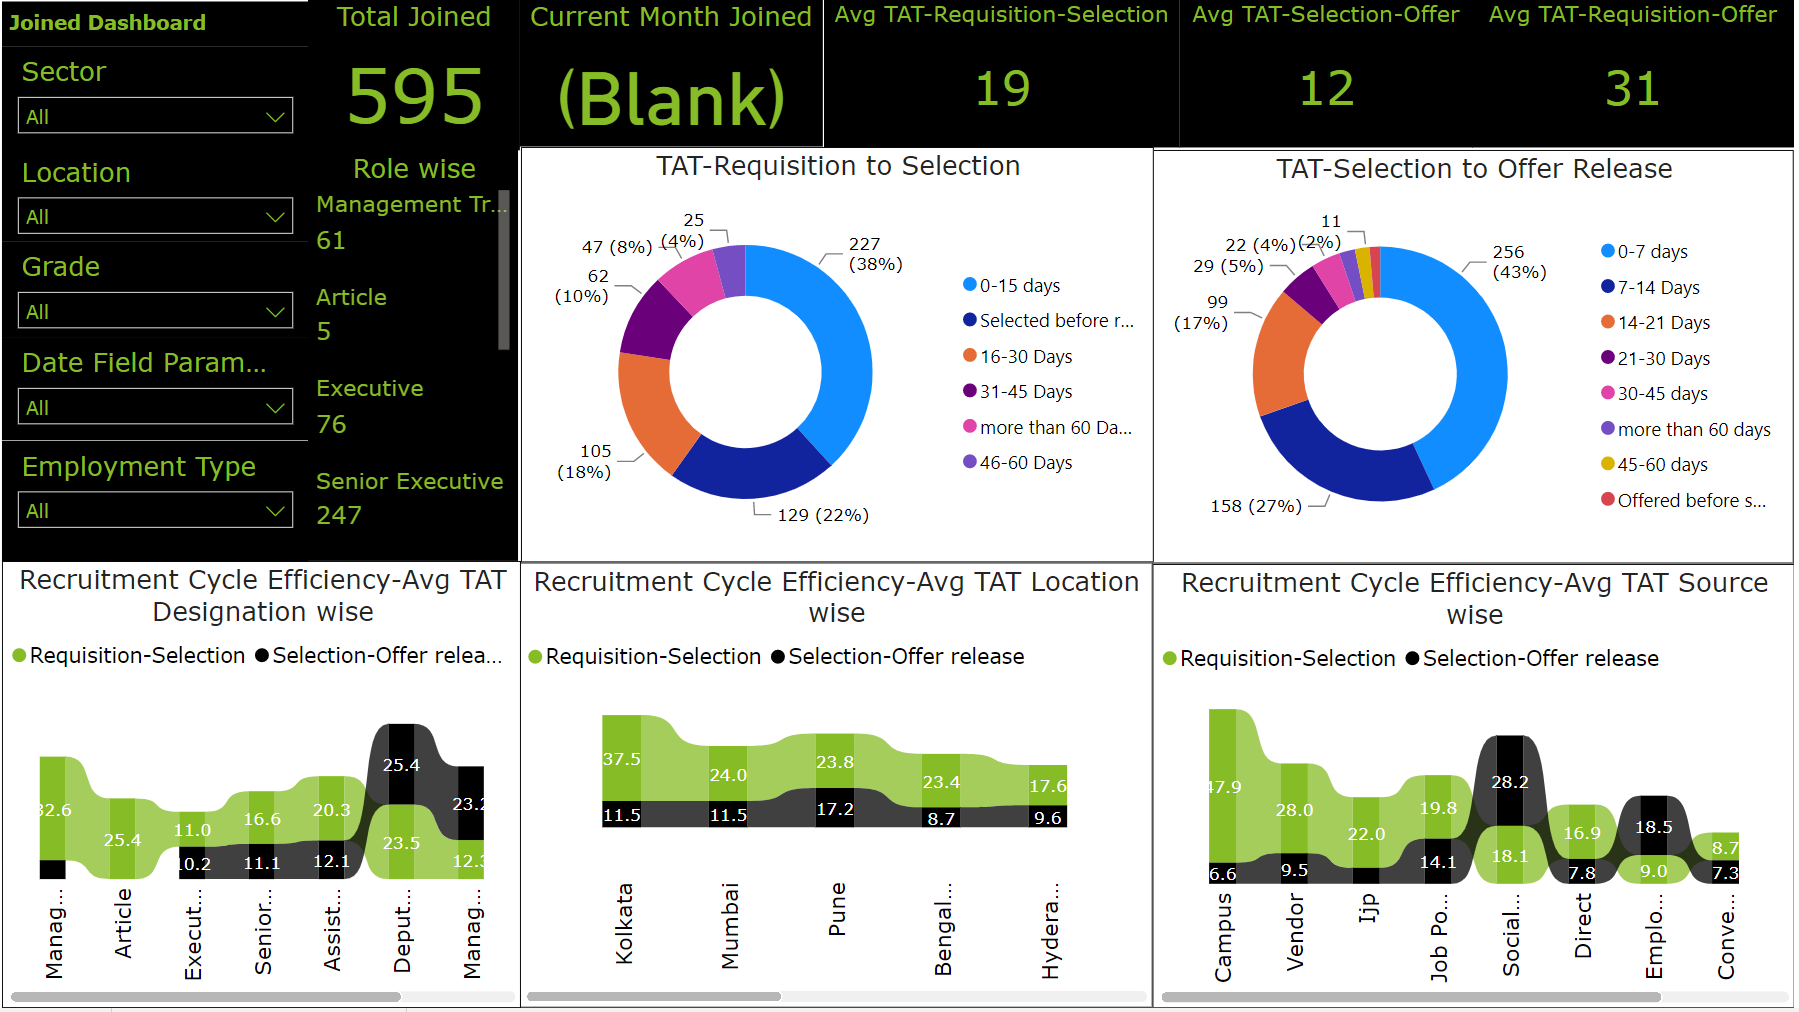

This screenshot's page, from the dashboard's own definition file:
{"tool":"powerbi","page":{"name":"Joined Board Ageing","canvas":[1280,720],"ordinal":3},"visuals":[{"type":"slicer","fields":{"Values":["Recruitment Data.Grade"]},"box":[0,245,219,69.8],"z":0},{"type":"donutChart","title":"TAT-Selection to Offer Release","fields":{"Y":["CountNonNull(Recruitment Data.Offered Candidate name)"],"Category":["Perm, FTC, Intern & Article.Ageing_Offer_Selc"]},"box":[822.2,107,458.2,295.3],"z":1000},{"type":"ribbonChart","title":"Recruitment Cycle Efficiency-Avg TAT Location wise","fields":{"Category":["Recruitment Data.Location"],"Y":["Avg(Perm, FTC, Intern & Article.Age_Reqs_Selc)","Avg(Perm, FTC, Intern & Article.Age_offer_Selc)"]},"box":[368.8,402.3,453.4,317.7],"z":2000},{"type":"donutChart","title":"TAT-Requisition to Selection","fields":{"Y":["CountNonNull(Recruitment Data.Offered Candidate name)"],"Category":["Perm, FTC, Intern & Article.Ageing_Req_Selc"]},"box":[370.4,105.4,451.8,296.9],"z":3000},{"type":"card","title":"Total Joined","fields":{"Values":["Perm, FTC, Intern & Article.Candidate Count"]},"box":[219.1,0,151.6,107.1],"z":4000},{"type":"slicer","fields":{"Values":["Recruitment Data.Location"]},"box":[0,178.5,219,66.5],"z":5000},{"type":"ribbonChart","title":"Recruitment Cycle Efficiency-Avg TAT Source wise","fields":{"Category":["Recruitment Data.Recruitment Source"],"Y":["Avg(Perm, FTC, Intern & Article.Age_Reqs_Selc)","Avg(Perm, FTC, Intern & Article.Age_offer_Selc)"]},"box":[822,402.4,458.4,317.6],"z":6000},{"type":"multiRowCard","title":"Role wise","fields":{"Values":["Recruitment Data.Grade","Recruitment Data.Offered Candidate name"]},"box":[219.1,107.1,149.9,293.2],"z":7000},{"type":"ribbonChart","title":"Recruitment Cycle Efficiency-Avg TAT Designation wise","fields":{"Y":["Avg(Perm, FTC, Intern & Article.Age_Reqs_Selc)","Avg(Perm, FTC, Intern & Article.Age_offer_Selc)"],"Category":["Designation.Designation"]},"box":[0,401,370.8,319],"z":8000},{"type":"card","title":"Avg TAT-Selection-Offer","fields":{"Values":["Avg(Perm, FTC, Intern & Article.Age_offer_Selc)"]},"box":[841.3,0,209.1,105.4],"z":9000},{"type":"card","title":"Avg TAT-Requisition-Selection","fields":{"Values":["Avg(Perm, FTC, Intern & Article.Age_Reqs_Selc)"]},"box":[587.5,0,253.8,105.4],"z":10000},{"type":"card","title":"Avg TAT-Requisition-Offer","fields":{"Values":["Avg(Perm, FTC, Intern & Article.Age_Offered_Reque)"]},"box":[1050.5,0,229.9,105.4],"z":11000},{"type":"slicer","fields":{"Values":["Recruitment Data.Portfolio Offering"]},"box":[0,105.4,219,71.4],"z":12000},{"type":"slicer","fields":{"Values":["Recruitment Data.Employment Type"]},"box":[0,314.5,218.7,86.2],"z":13000},{"type":"card","title":"Current Month Joined","fields":{"Values":["Perm, FTC, Intern & Article.Current Joined"]},"box":[370,0,216.9,104.6],"z":14000},{"type":"textbox","box":[0,1.6,218.7,31.9],"z":15000},{"type":"slicer","fields":{"Values":["Recruitment Data.Business Leader"]},"box":[0,34.1,219,71.4],"z":16000}]}

Visuals, with their boxes in screenshot pixels (x1, y1, x2, y2), scaled from the page's 1280x720 canvas onto the 1799x1012 screenshot:
slicer - Recruitment Data.Grade: 0 344 308 442
"TAT-Selection to Offer Release" donutChart: 1156 150 1798 565
"Recruitment Cycle Efficiency-Avg TAT Location wise" ribbonChart: 518 565 1156 1011
"TAT-Requisition to Selection" donutChart: 521 148 1156 565
"Total Joined" card: 308 0 521 151
slicer - Recruitment Data.Location: 0 251 308 344
"Recruitment Cycle Efficiency-Avg TAT Source wise" ribbonChart: 1155 566 1798 1011
"Role wise" multiRowCard: 308 151 519 563
"Recruitment Cycle Efficiency-Avg TAT Designation wise" ribbonChart: 0 564 521 1011
"Avg TAT-Selection-Offer" card: 1182 0 1476 148
"Avg TAT-Requisition-Selection" card: 826 0 1182 148
"Avg TAT-Requisition-Offer" card: 1476 0 1798 148
slicer - Recruitment Data.Portfolio Offering: 0 148 308 249
slicer - Recruitment Data.Employment Type: 0 442 307 563
"Current Month Joined" card: 520 0 825 147
textbox: 0 2 307 47
slicer - Recruitment Data.Business Leader: 0 48 308 148
